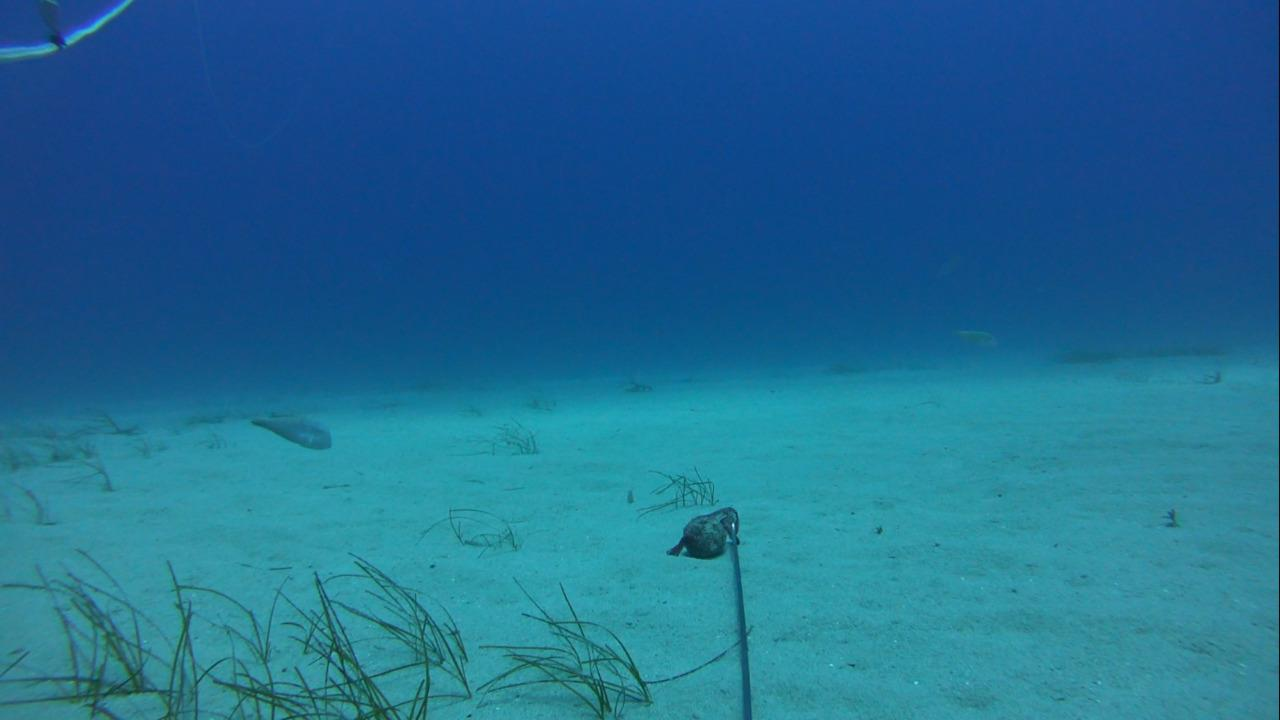raor: (238, 405, 341, 456), (943, 322, 1001, 358)
